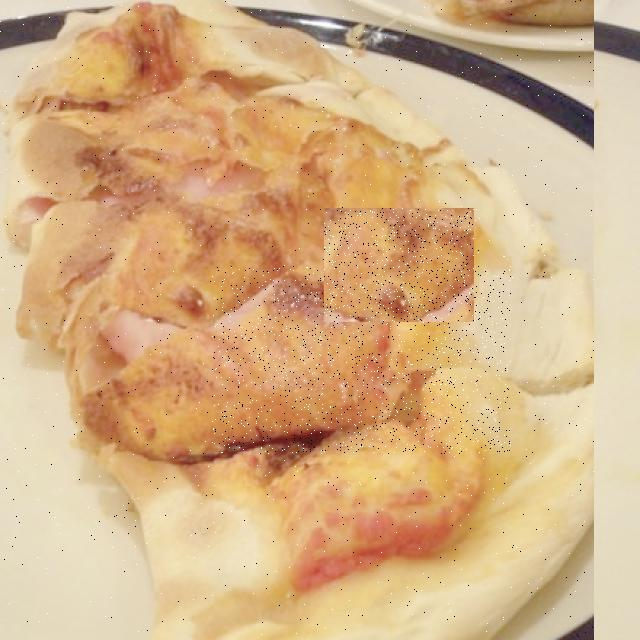Ham: (211, 266, 511, 454), (324, 208, 474, 322)
Pizza: (0, 0, 594, 640)
